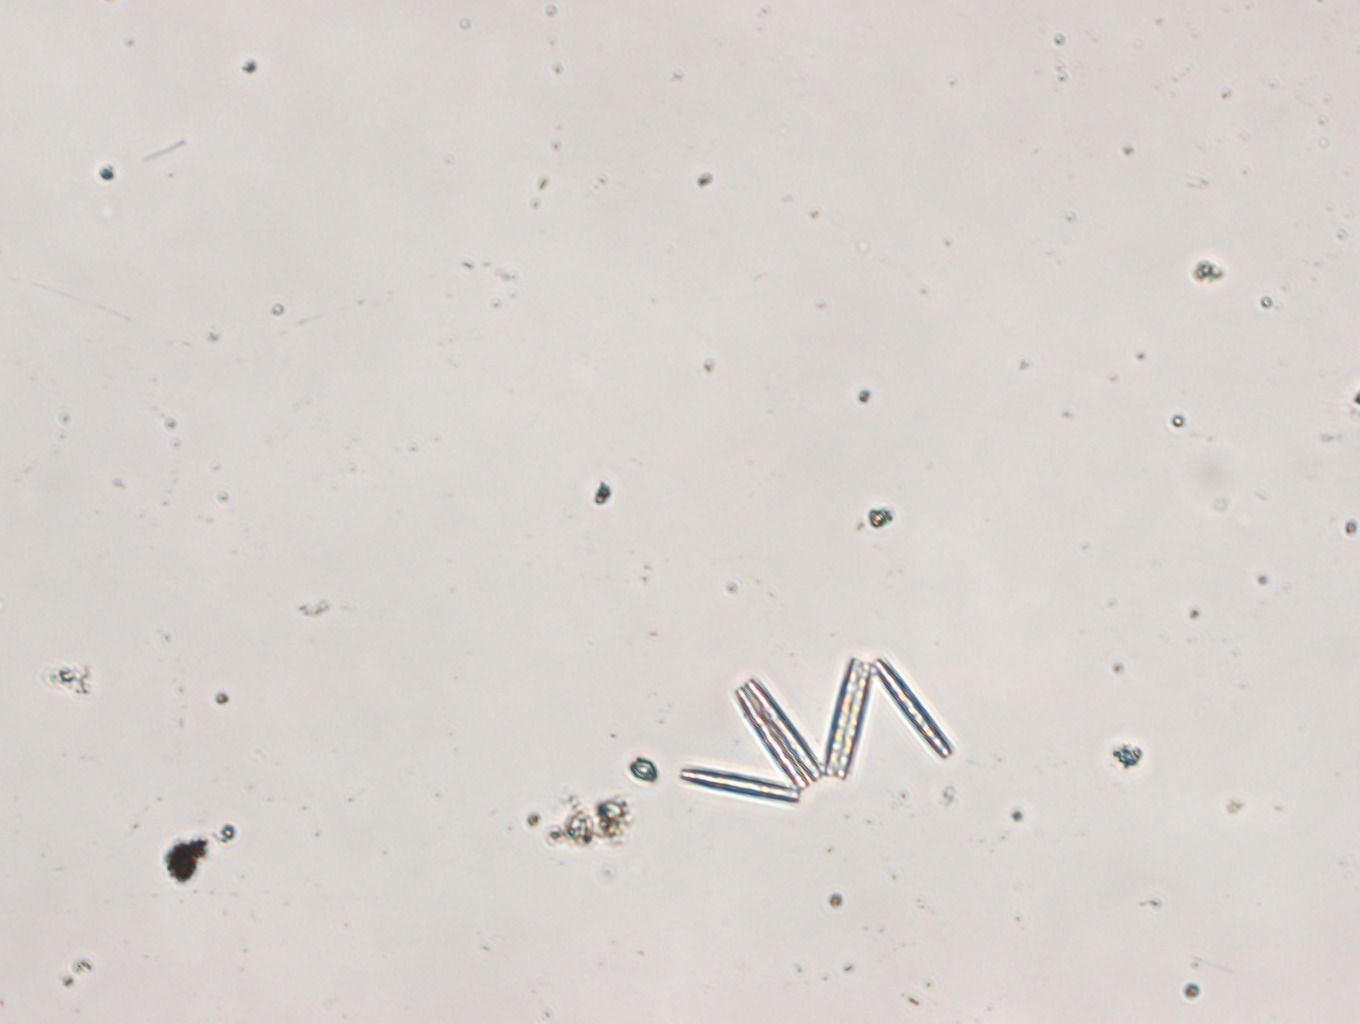thalassionema nitzschioides: (679, 655, 956, 802)
